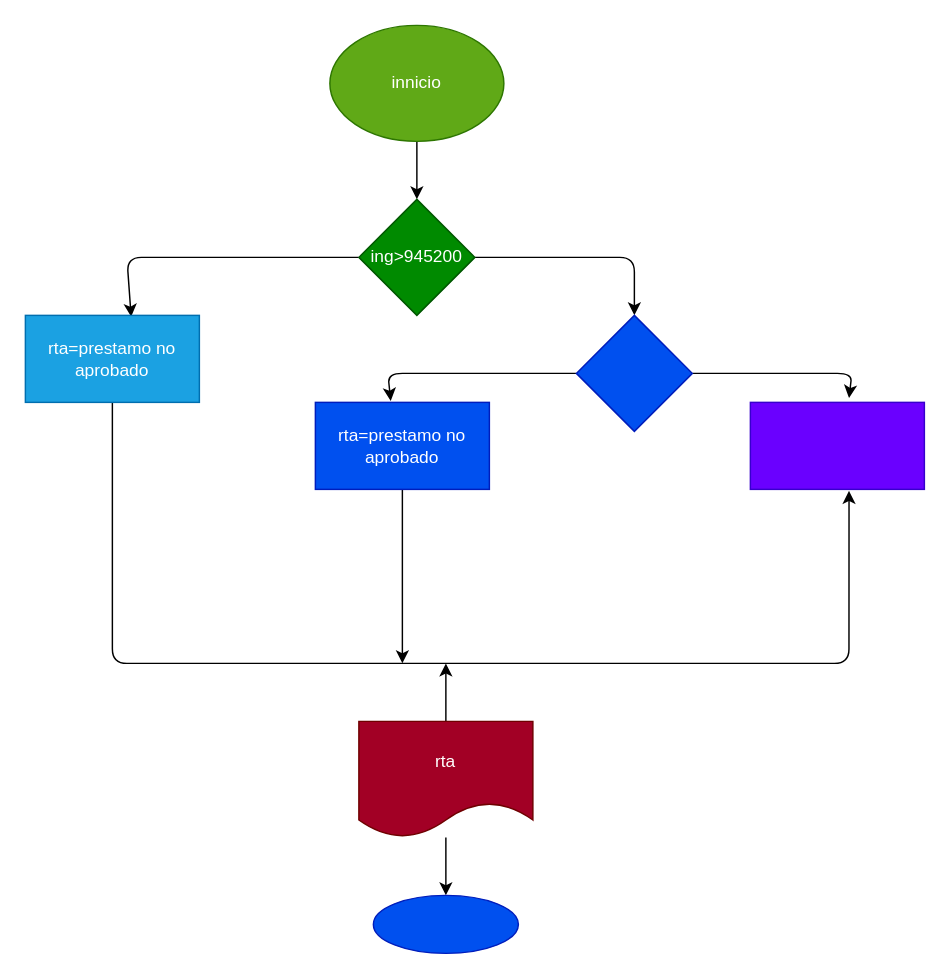
The diagram is 950 pixels wide and 979 high, and some of its shapes have lost their labels. Each missing label, with the box of its shape:
deuda==0: (575, 314, 692, 431)
fin: (372, 894, 518, 953)
rta=prestamo aprobado: (749, 401, 924, 489)
